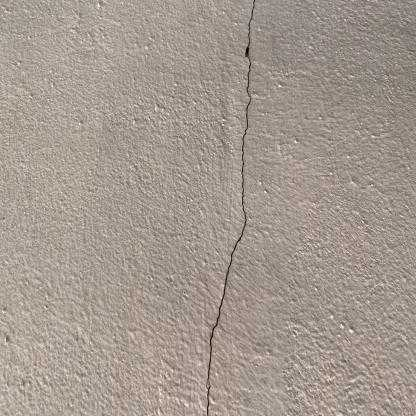crack: (206, 0, 256, 414)
